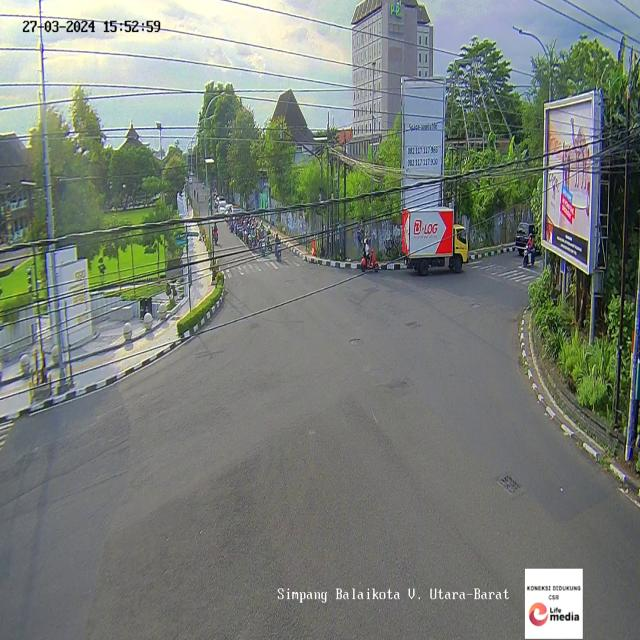car: (514, 217, 541, 254)
motorcycle: (361, 236, 378, 275), (522, 231, 536, 274), (273, 233, 281, 260), (212, 220, 220, 247), (259, 230, 267, 256)
truck: (406, 209, 470, 276)
